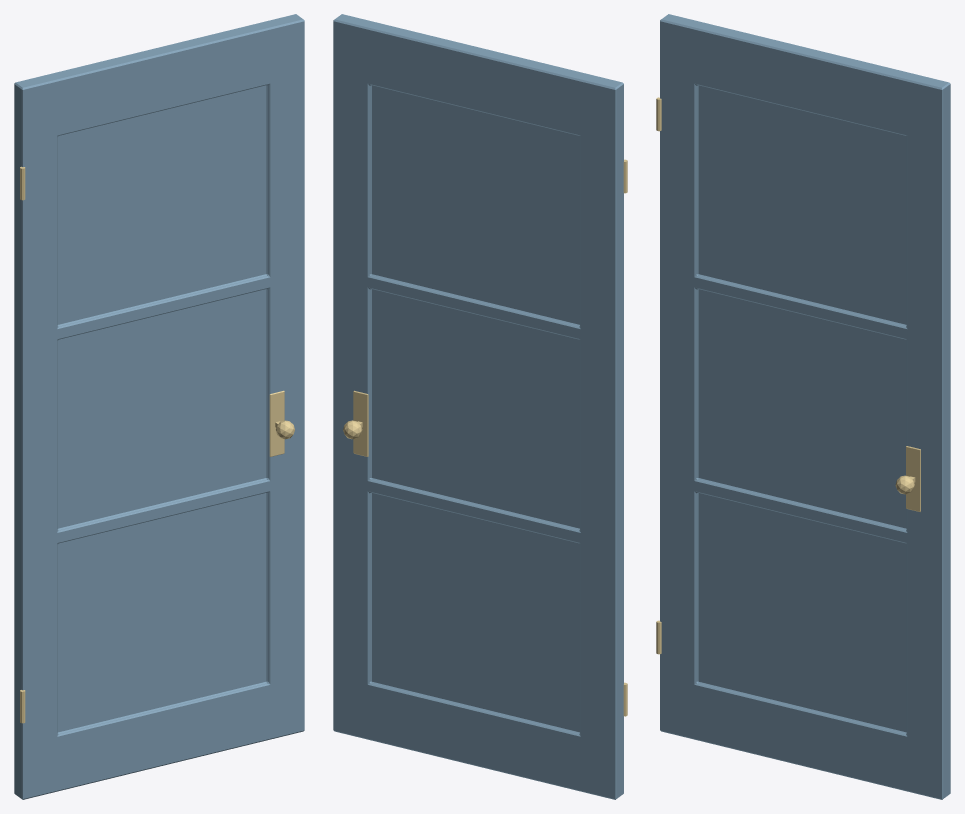
Rendered from door_leaf_back.glb.
3 renders of one model, left to right at view 1: azimuth 30°, elevation 25°; view 2: azimuth 150°, elevation 25°; view 3: azimuth 330°, elevation 25°, orthographic.
Visible parts, largest first — view 1: door_leaf_back_door, door_leaf_back_brass; view 2: door_leaf_back_door, door_leaf_back_brass; view 3: door_leaf_back_door, door_leaf_back_brass.
Boxes of the visible parts, <box> form: door_leaf_back_door: <box>14,14,304,799</box>; door_leaf_back_brass: <box>20,166,294,723</box>; door_leaf_back_door: <box>333,14,623,799</box>; door_leaf_back_brass: <box>343,159,627,716</box>; door_leaf_back_door: <box>660,14,950,799</box>; door_leaf_back_brass: <box>656,97,920,654</box>.
Size of the model in its own units: 0.948 by 2.26 by 0.206.
